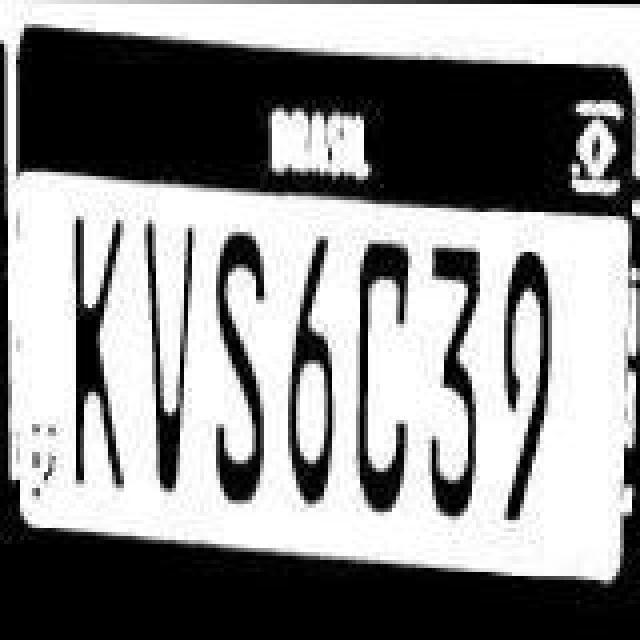3: (428, 222, 492, 518)
6: (280, 216, 352, 524)
9: (496, 236, 560, 524)
C: (360, 220, 424, 520)
K: (70, 190, 146, 498)
S: (204, 214, 276, 518)
V: (146, 202, 198, 498)
